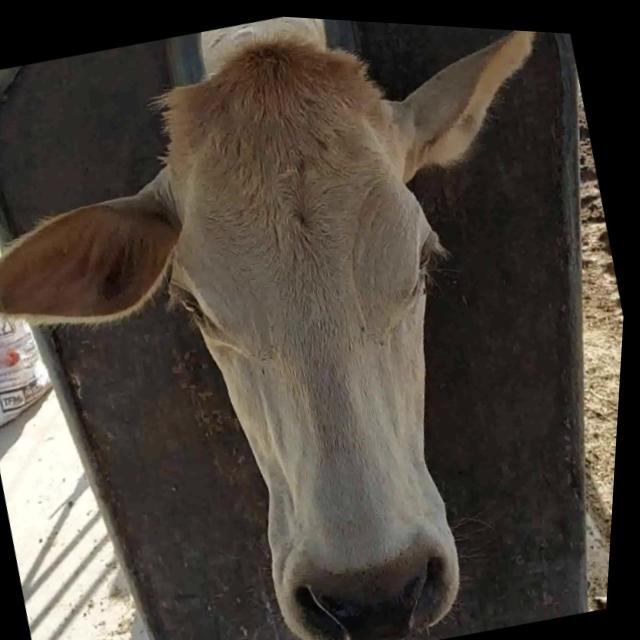cowFace: (104, 6, 544, 640)
